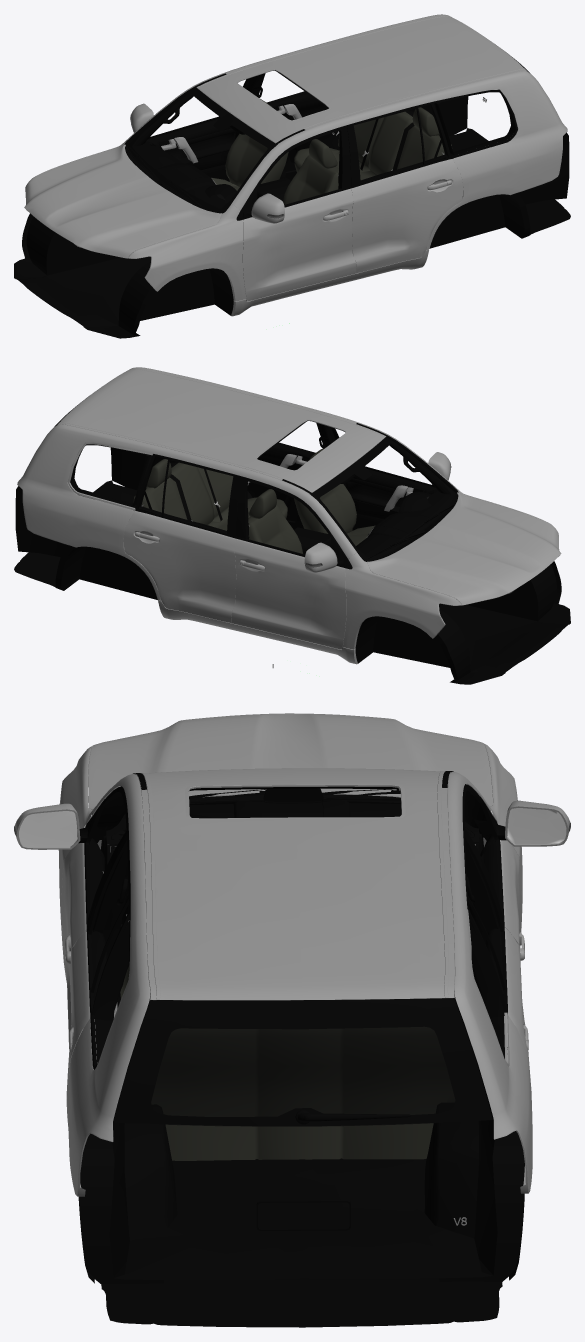
File: car.glb
3 renders of one model, top to bottom at view 1: azimuth 30°, elevation 25°; view 2: azimuth 150°, elevation 25°; view 3: azimuth 270°, elevation 25°, orthographic. The views are drawn at different scales.
Parts seen in each view (by area): view 1: Top Panel_31, Bottom Cap_19, Hood_23, Rear Side Panel_26, Front Door_L_10, Rear Door_L_9, Seats_1, Front Side Panel_22, Interior_4, Front Door_R_11, Dashboard_3, Front Wind sheild Rim_5 (+7 smaller); view 2: Top Panel_31, Bottom Cap_19, Hood_23, Rear Side Panel_26, Front Door_R_11, Rear Door_R_12, Seats_1, Front Side Panel_22, Interior_4, Front Door_L_10, Dashboard_3, Front Wind sheild Rim_5 (+6 smaller); view 3: Top Panel_31, Interior Floor_8, Rear Windsheild_77, Seats_1, Bottom Cap_19, Rear Side Panel_26, Hood_23, Inner Rear Window Rim_79, Interior_4, Front Door_L_10, Rear Door_L_9, Dashboard_3 (+7 smaller).
Boxes of the visible parts, bbox=[...] form: Top Panel_31: bbox=[196, 14, 527, 143]; Bottom Cap_19: bbox=[14, 140, 570, 338]; Hood_23: bbox=[24, 144, 221, 258]; Rear Side Panel_26: bbox=[133, 14, 567, 249]; Front Door_L_10: bbox=[242, 125, 356, 301]; Rear Door_L_9: bbox=[347, 102, 463, 272]; Seats_1: bbox=[211, 99, 452, 204]; Front Side Panel_22: bbox=[32, 134, 246, 301]; Interior_4: bbox=[132, 70, 569, 300]; Front Door_R_11: bbox=[146, 78, 347, 213]; Dashboard_3: bbox=[132, 141, 236, 208]; Front Wind sheild Rim_5: bbox=[127, 88, 275, 213]; Top Panel_31: bbox=[57, 367, 386, 493]; Bottom Cap_19: bbox=[14, 491, 570, 684]; Hood_23: bbox=[367, 492, 561, 605]; Rear Side Panel_26: bbox=[17, 367, 449, 600]; Front Door_R_11: bbox=[231, 476, 346, 649]; Rear Door_R_12: bbox=[123, 454, 239, 622]; Seats_1: bbox=[133, 448, 375, 553]; Front Side Panel_22: bbox=[343, 482, 551, 649]; Interior_4: bbox=[15, 420, 450, 648]; Front Door_L_10: bbox=[331, 427, 436, 530]; Dashboard_3: bbox=[356, 489, 450, 557]; Front Wind sheild Rim_5: bbox=[312, 437, 455, 561]; Top Panel_31: bbox=[136, 768, 454, 1000]; Interior Floor_8: bbox=[114, 993, 492, 1280]; Rear Windsheild_77: bbox=[114, 998, 492, 1126]; Seats_1: bbox=[120, 965, 455, 1160]; Bottom Cap_19: bbox=[78, 1131, 524, 1327]; Rear Side Panel_26: bbox=[66, 772, 532, 1196]; Hood_23: bbox=[88, 713, 492, 809]; Inner Rear Window Rim_79: bbox=[114, 998, 492, 1126]; Interior_4: bbox=[92, 784, 507, 1277]; Front Door_L_10: bbox=[61, 787, 128, 1048]; Rear Door_L_9: bbox=[66, 831, 130, 1098]; Dashboard_3: bbox=[100, 801, 483, 933].
Size of the model in its own units: 5.46 by 2.49 by 2.74.
61 materials, 2 textured.
